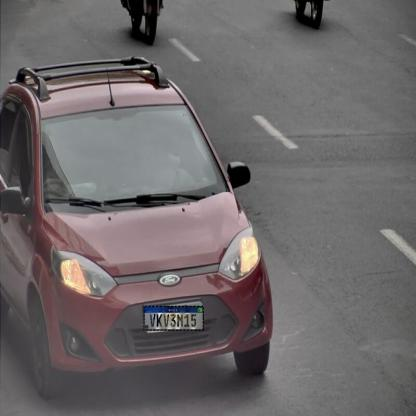PlacaM: (143, 306, 204, 330)
